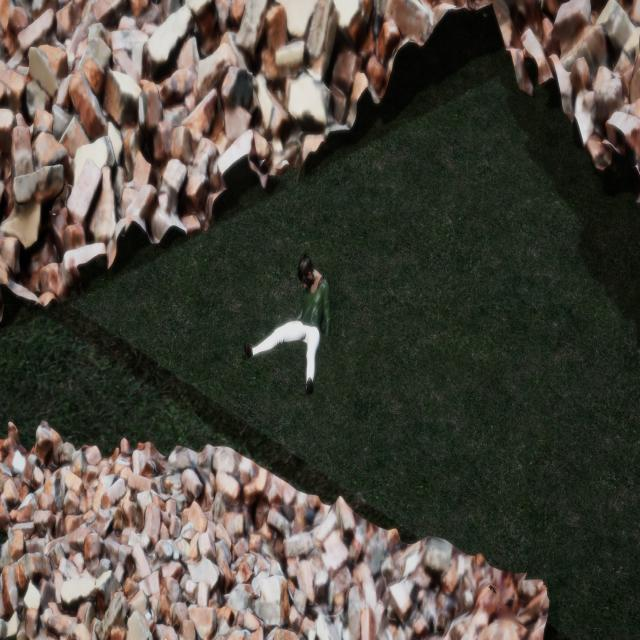Human: (238, 243, 340, 403)
